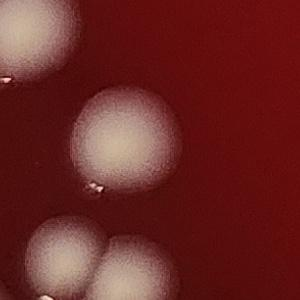colony: (64, 76, 190, 200), (16, 210, 118, 300), (0, 0, 85, 100), (79, 233, 196, 300)
